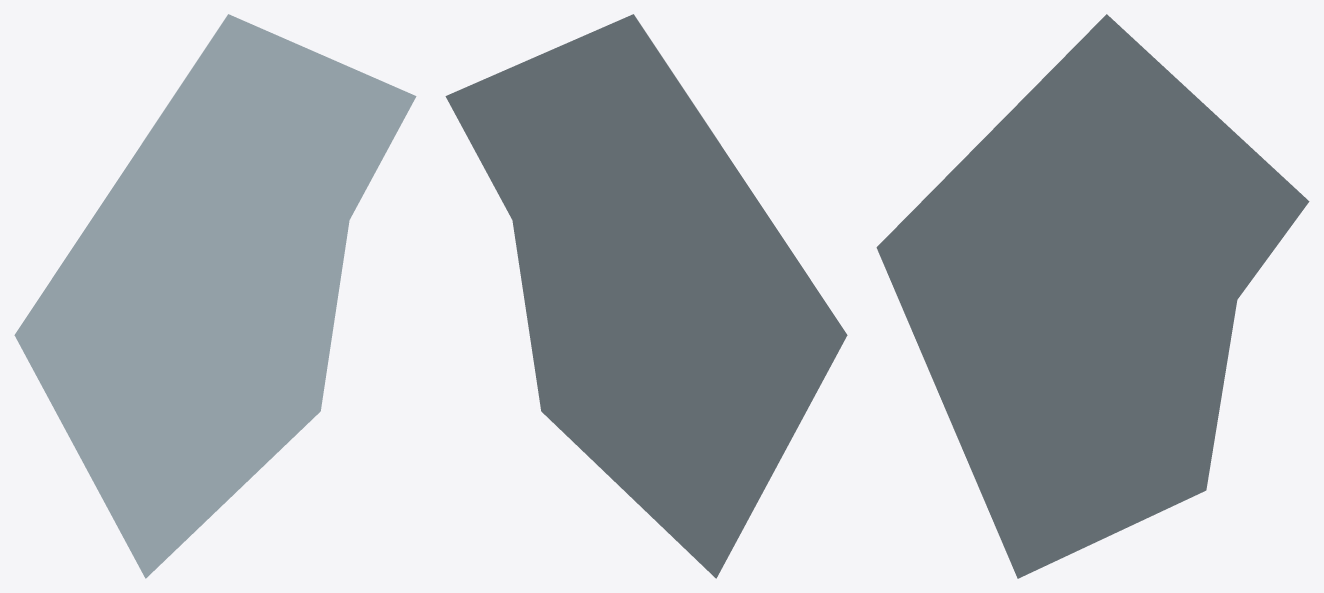
3 views of the same model, side by side, from view 1: azimuth 30°, elevation 25°; view 2: azimuth 150°, elevation 25°; view 3: azimuth 330°, elevation 25° (orthographic). The views are drawn at different scales.
Parts seen in each view (by area): view 1: pCube49; view 2: pCube49; view 3: pCube49.
Boxes of the visible parts, x1=… form: pCube49: x1=14, y1=14, x2=416, y2=578; pCube49: x1=445, y1=14, x2=847, y2=578; pCube49: x1=876, y1=14, x2=1309, y2=578.
Bounding box in the file's own units: 37.94 × 49.13 × 6.87e-05.
